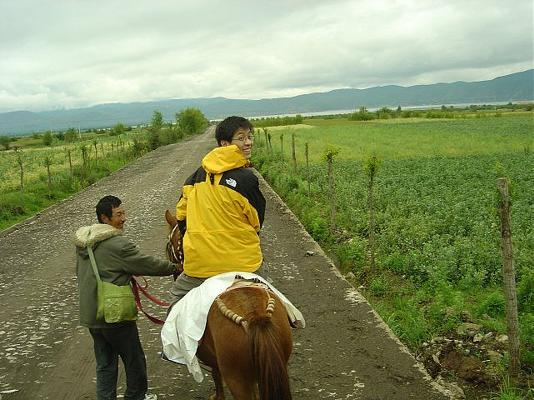person: (162, 116, 273, 368)
